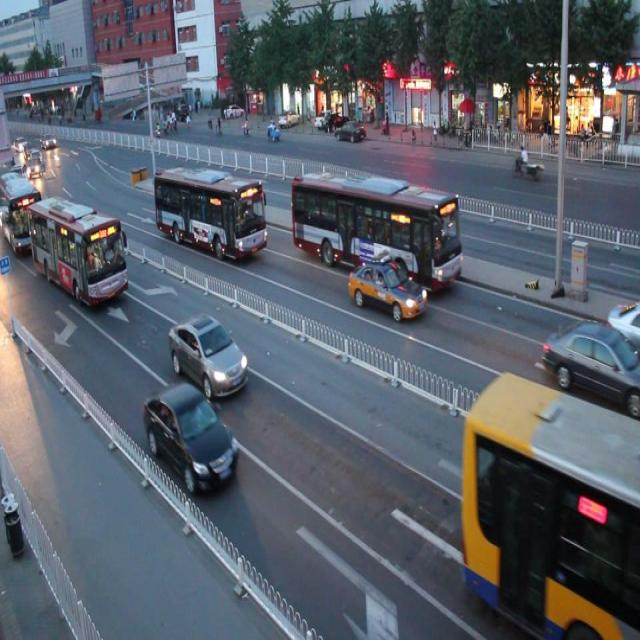car: (142, 380, 240, 494), (543, 320, 640, 408), (168, 312, 248, 402), (346, 256, 427, 321), (604, 298, 640, 339), (188, 170, 224, 202)
van: (461, 371, 640, 640), (289, 166, 462, 286), (153, 163, 266, 260), (28, 196, 128, 304)
